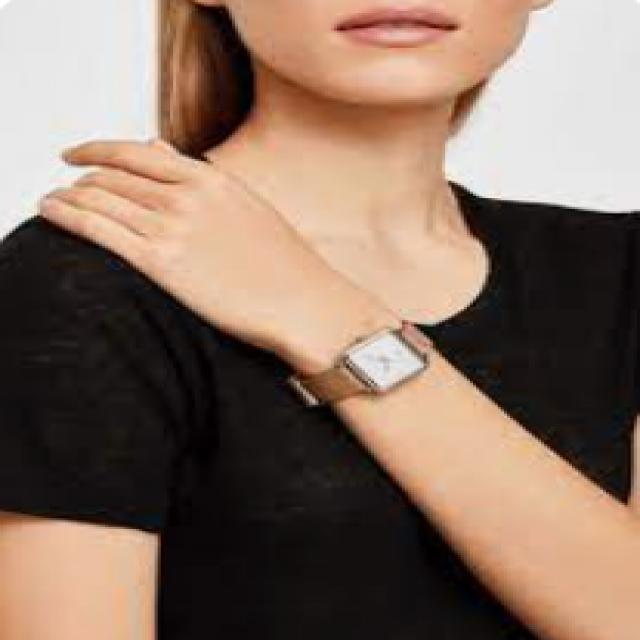Watch: (284, 317, 442, 408)
